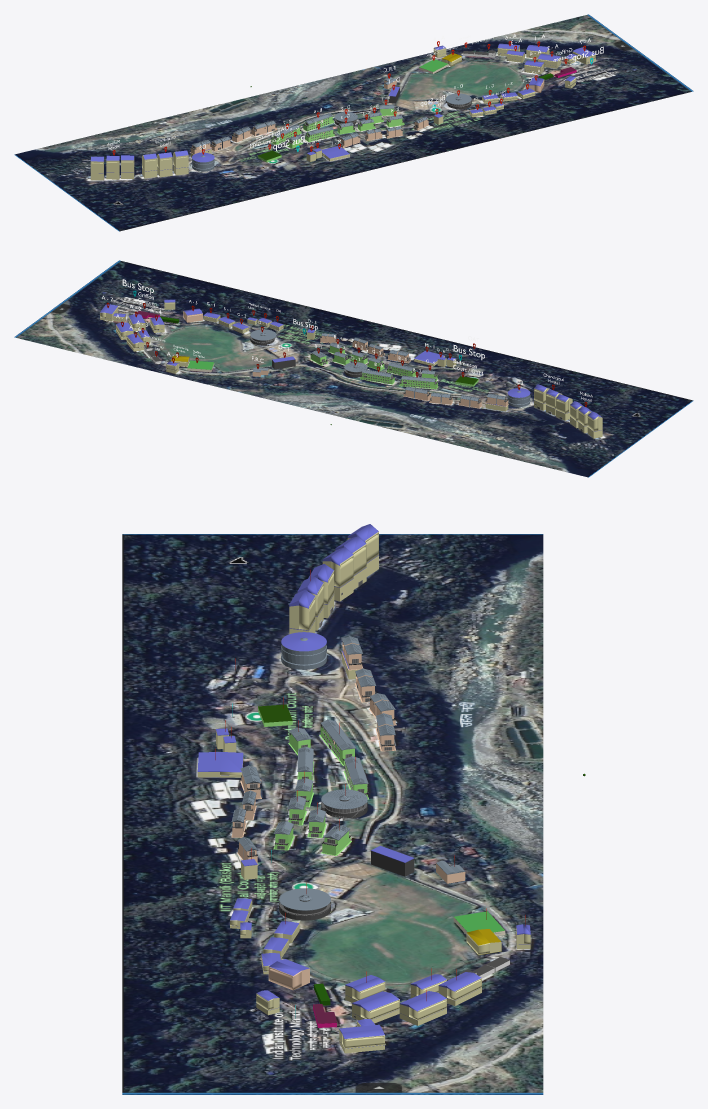
Rendered from south_002.glb.
The picture shows the model from 3 angles, top to bottom: view 1: azimuth 30°, elevation 25°; view 2: azimuth 150°, elevation 25°; view 3: azimuth 270°, elevation 25°; orthographic projection. The views are drawn at different scales.
Visible parts, largest first — view 1: Ground.001, mess.002, building_basic.026, building_basic.027, building_basic.028, Cylinder.005; view 2: Ground.001, mess.002, building_basic.031, Cylinder.005, building_basic.028; view 3: Ground.001, mess.002, Cylinder.005, building_basic.007, Cylinder.006, building_basic.016, building_basic.019, building_basic.006, building_basic.029, building_basic.026, building_basic.008, building_basic.001 (+1 smaller).
Boxes of the visible parts, bbox=[...] form: Ground.001: bbox=[14, 14, 693, 231]; mess.002: bbox=[192, 152, 214, 171]; building_basic.026: bbox=[173, 150, 188, 175]; building_basic.027: bbox=[157, 152, 172, 177]; building_basic.028: bbox=[142, 153, 157, 178]; Cylinder.005: bbox=[445, 93, 471, 109]; Ground.001: bbox=[14, 260, 693, 477]; mess.002: bbox=[507, 388, 530, 406]; building_basic.031: bbox=[587, 411, 602, 438]; Cylinder.005: bbox=[250, 329, 276, 345]; building_basic.028: bbox=[556, 394, 572, 420]; Ground.001: bbox=[122, 534, 543, 1094]; mess.002: bbox=[281, 632, 326, 669]; Cylinder.005: bbox=[279, 888, 331, 920]; building_basic.007: bbox=[399, 991, 446, 1025]; Cylinder.006: bbox=[321, 789, 367, 818]; building_basic.016: bbox=[197, 752, 243, 777]; building_basic.019: bbox=[339, 1024, 384, 1053]; building_basic.006: bbox=[352, 991, 399, 1023]; building_basic.029: bbox=[322, 547, 353, 601]; building_basic.026: bbox=[289, 590, 315, 634]; building_basic.008: bbox=[438, 972, 481, 1005]; building_basic.001: bbox=[268, 959, 309, 990].
Bounding box in the file's own units: 1023 × 66.19 × 357.
Materials: 22 (2 with a texture image).
